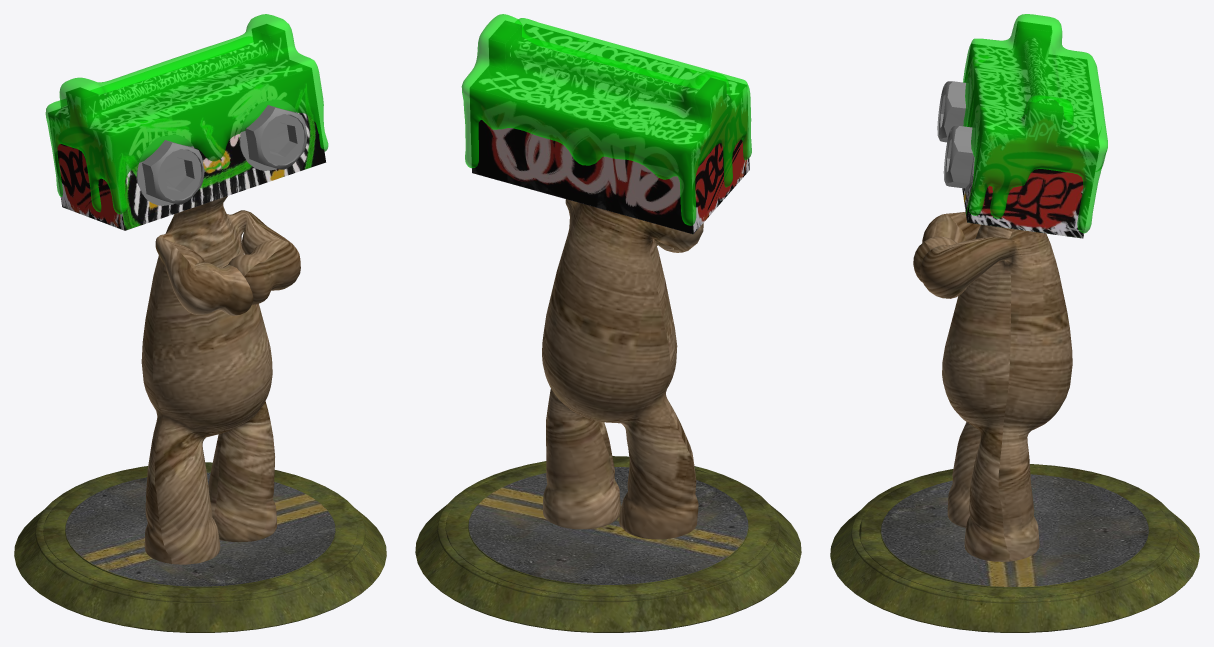
3 renders of one model, left to right at view 1: azimuth 30°, elevation 25°; view 2: azimuth 150°, elevation 25°; view 3: azimuth 270°, elevation 25°, orthographic. The views are drawn at different scales.
Size of the model in its own units: 1.45 by 2.16 by 1.45.
Materials: 6 (4 with a texture image).
